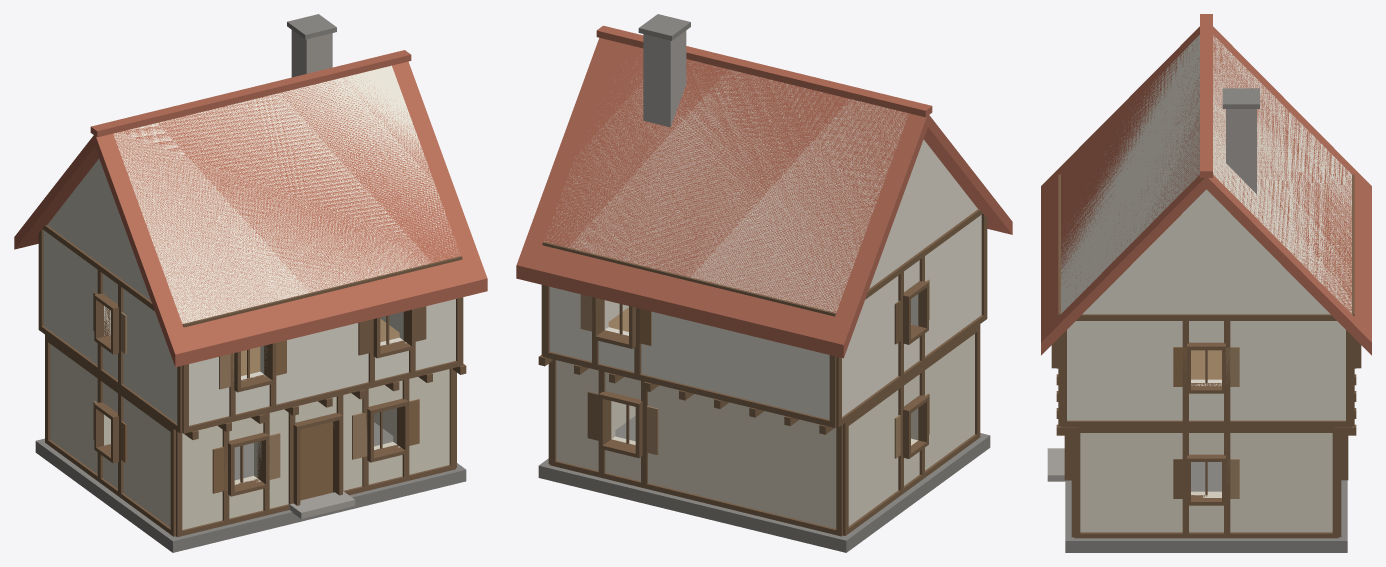
File: House_Timber2B.fbx
The picture shows the model from 3 angles, left to right: view 1: azimuth 30°, elevation 25°; view 2: azimuth 150°, elevation 25°; view 3: azimuth 270°, elevation 25°; orthographic projection. The views are drawn at different scales.
Parts seen in each view (by area): view 1: House_Timber2B; view 2: House_Timber2B; view 3: House_Timber2B.
Part boxes in pixels (x1,y1,x2,y2): House_Timber2B: [14, 14, 487, 552]; House_Timber2B: [516, 14, 1012, 552]; House_Timber2B: [1041, 14, 1371, 552].
Size of the model in its own units: 8.45 by 7.5 by 10.57.
